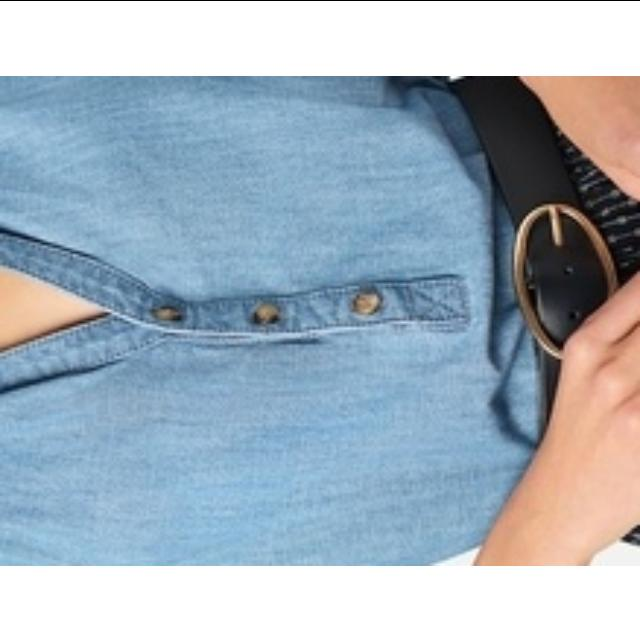denim: (0, 75, 496, 565)
